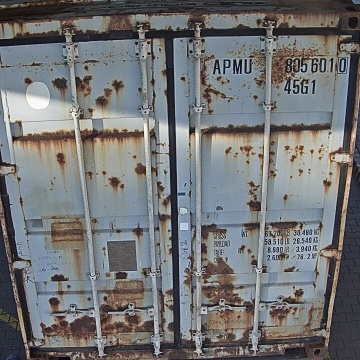serial_id: (213, 56, 348, 74)
